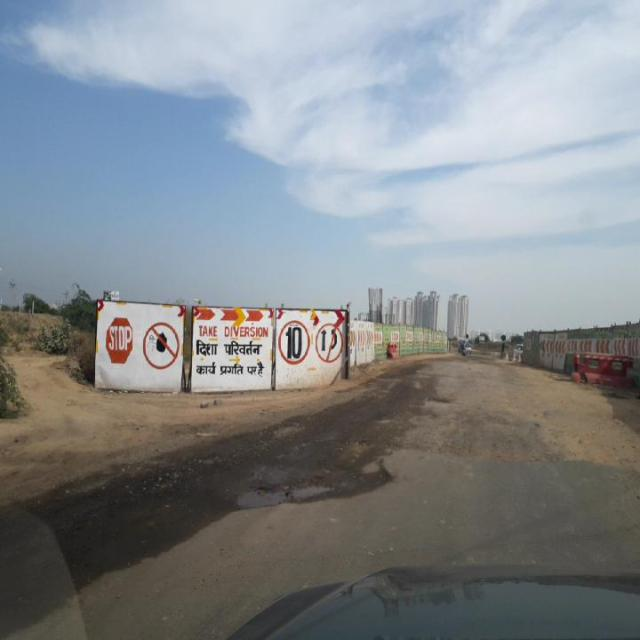Pothole: (81, 478, 239, 567), (270, 464, 343, 506)
Surface Erosion: (390, 313, 611, 477)
